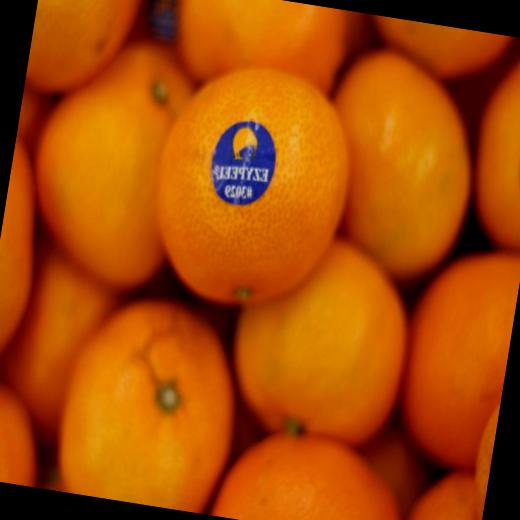Grape: (142, 46, 360, 327), (18, 21, 204, 303), (51, 292, 255, 516), (313, 50, 492, 293), (230, 230, 422, 446), (392, 238, 520, 476), (0, 260, 120, 447), (167, 0, 354, 104), (209, 427, 418, 520), (0, 134, 54, 390), (24, 0, 150, 109), (459, 33, 520, 249), (379, 17, 513, 80), (0, 380, 47, 486)
